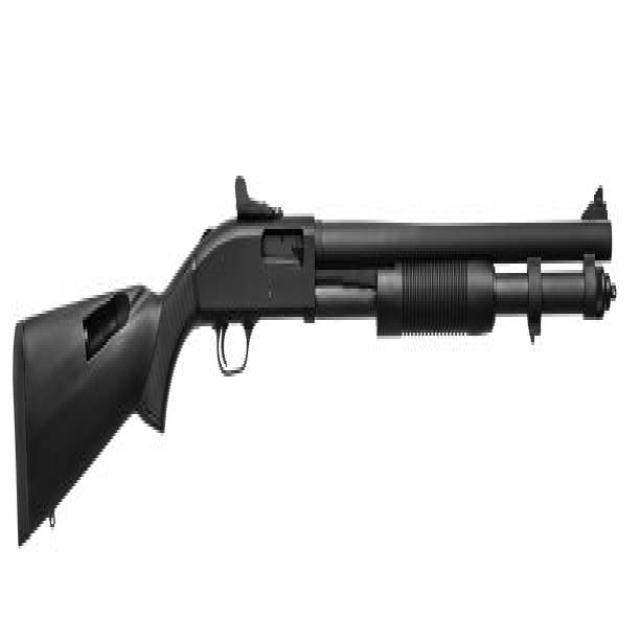rifle: (7, 169, 621, 569)
